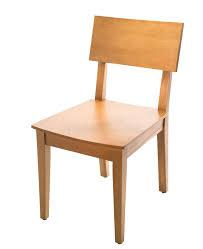chair: (19, 10, 183, 223)
